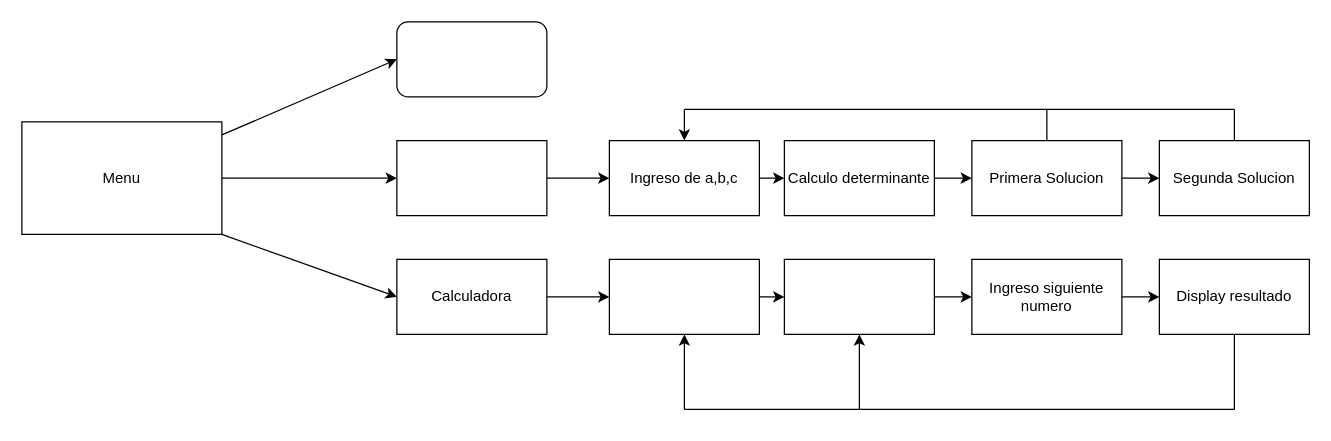
Some shapes in this 1331 by 441 pixel diagram are drawn without their labels. The shapes that lost their labels are listed below. From the top down, each one's box as (x1, y1, x2, y2) in pixels, then its label:
(396, 21, 547, 97): End
(396, 139, 547, 216): Calculadora Cuadrática
(608, 258, 759, 334): Ingreso primer dato
(783, 258, 934, 334): Ingreso operador
